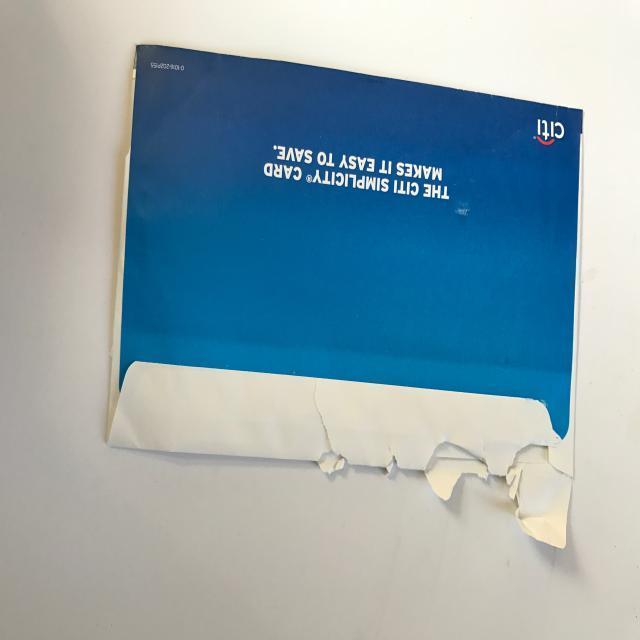paper: (107, 46, 640, 552)
